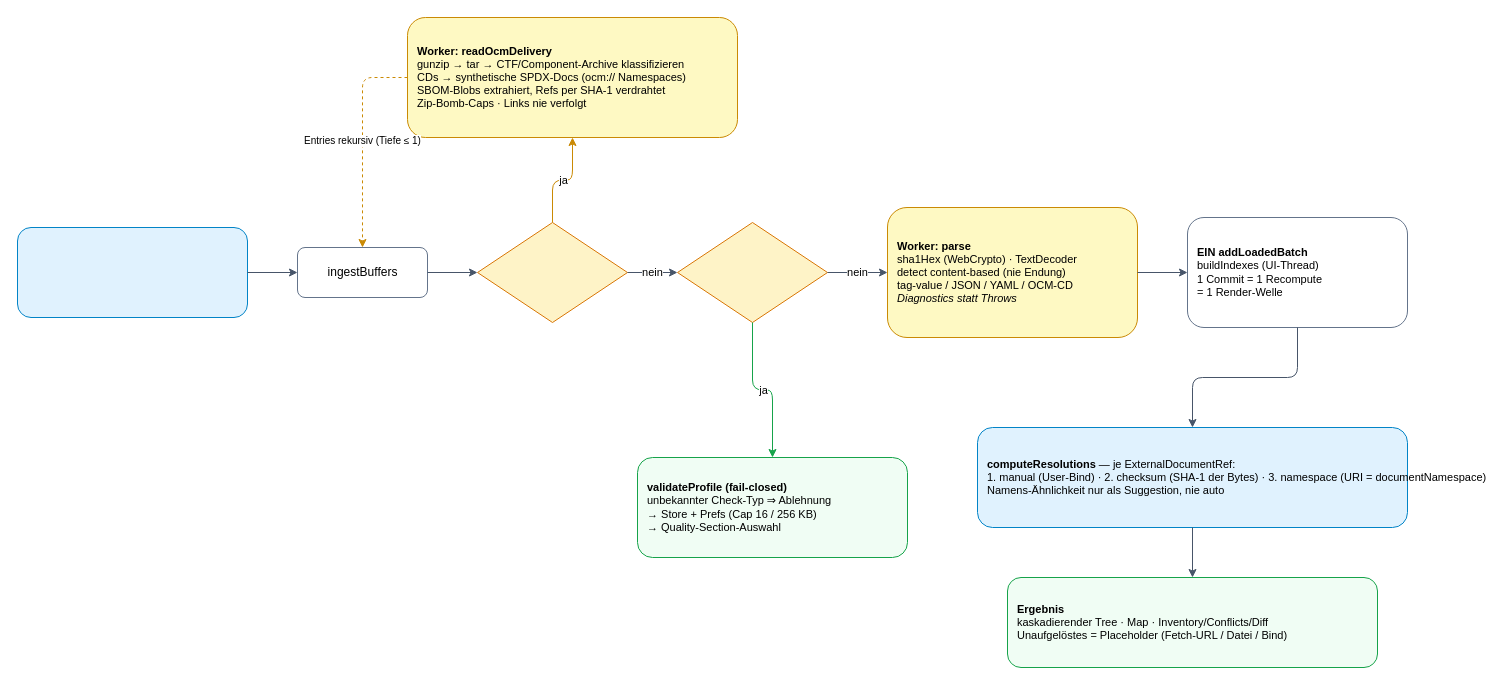
This 1504x685 diagram has some shape labels left out. Here are the shapes that lost their labels. From the top down, the centre of each, then its label:
point (132, 272): Bytes rein Drop · Picker · URL-Fetch (HostAdapter) · VS-Code-Push (ingestFiles)
point (552, 272): Container? (gzip/tar-Magic, erste 512 B)
point (752, 272): Compliance- Profil? (Sniff ≤ 64 KB)
